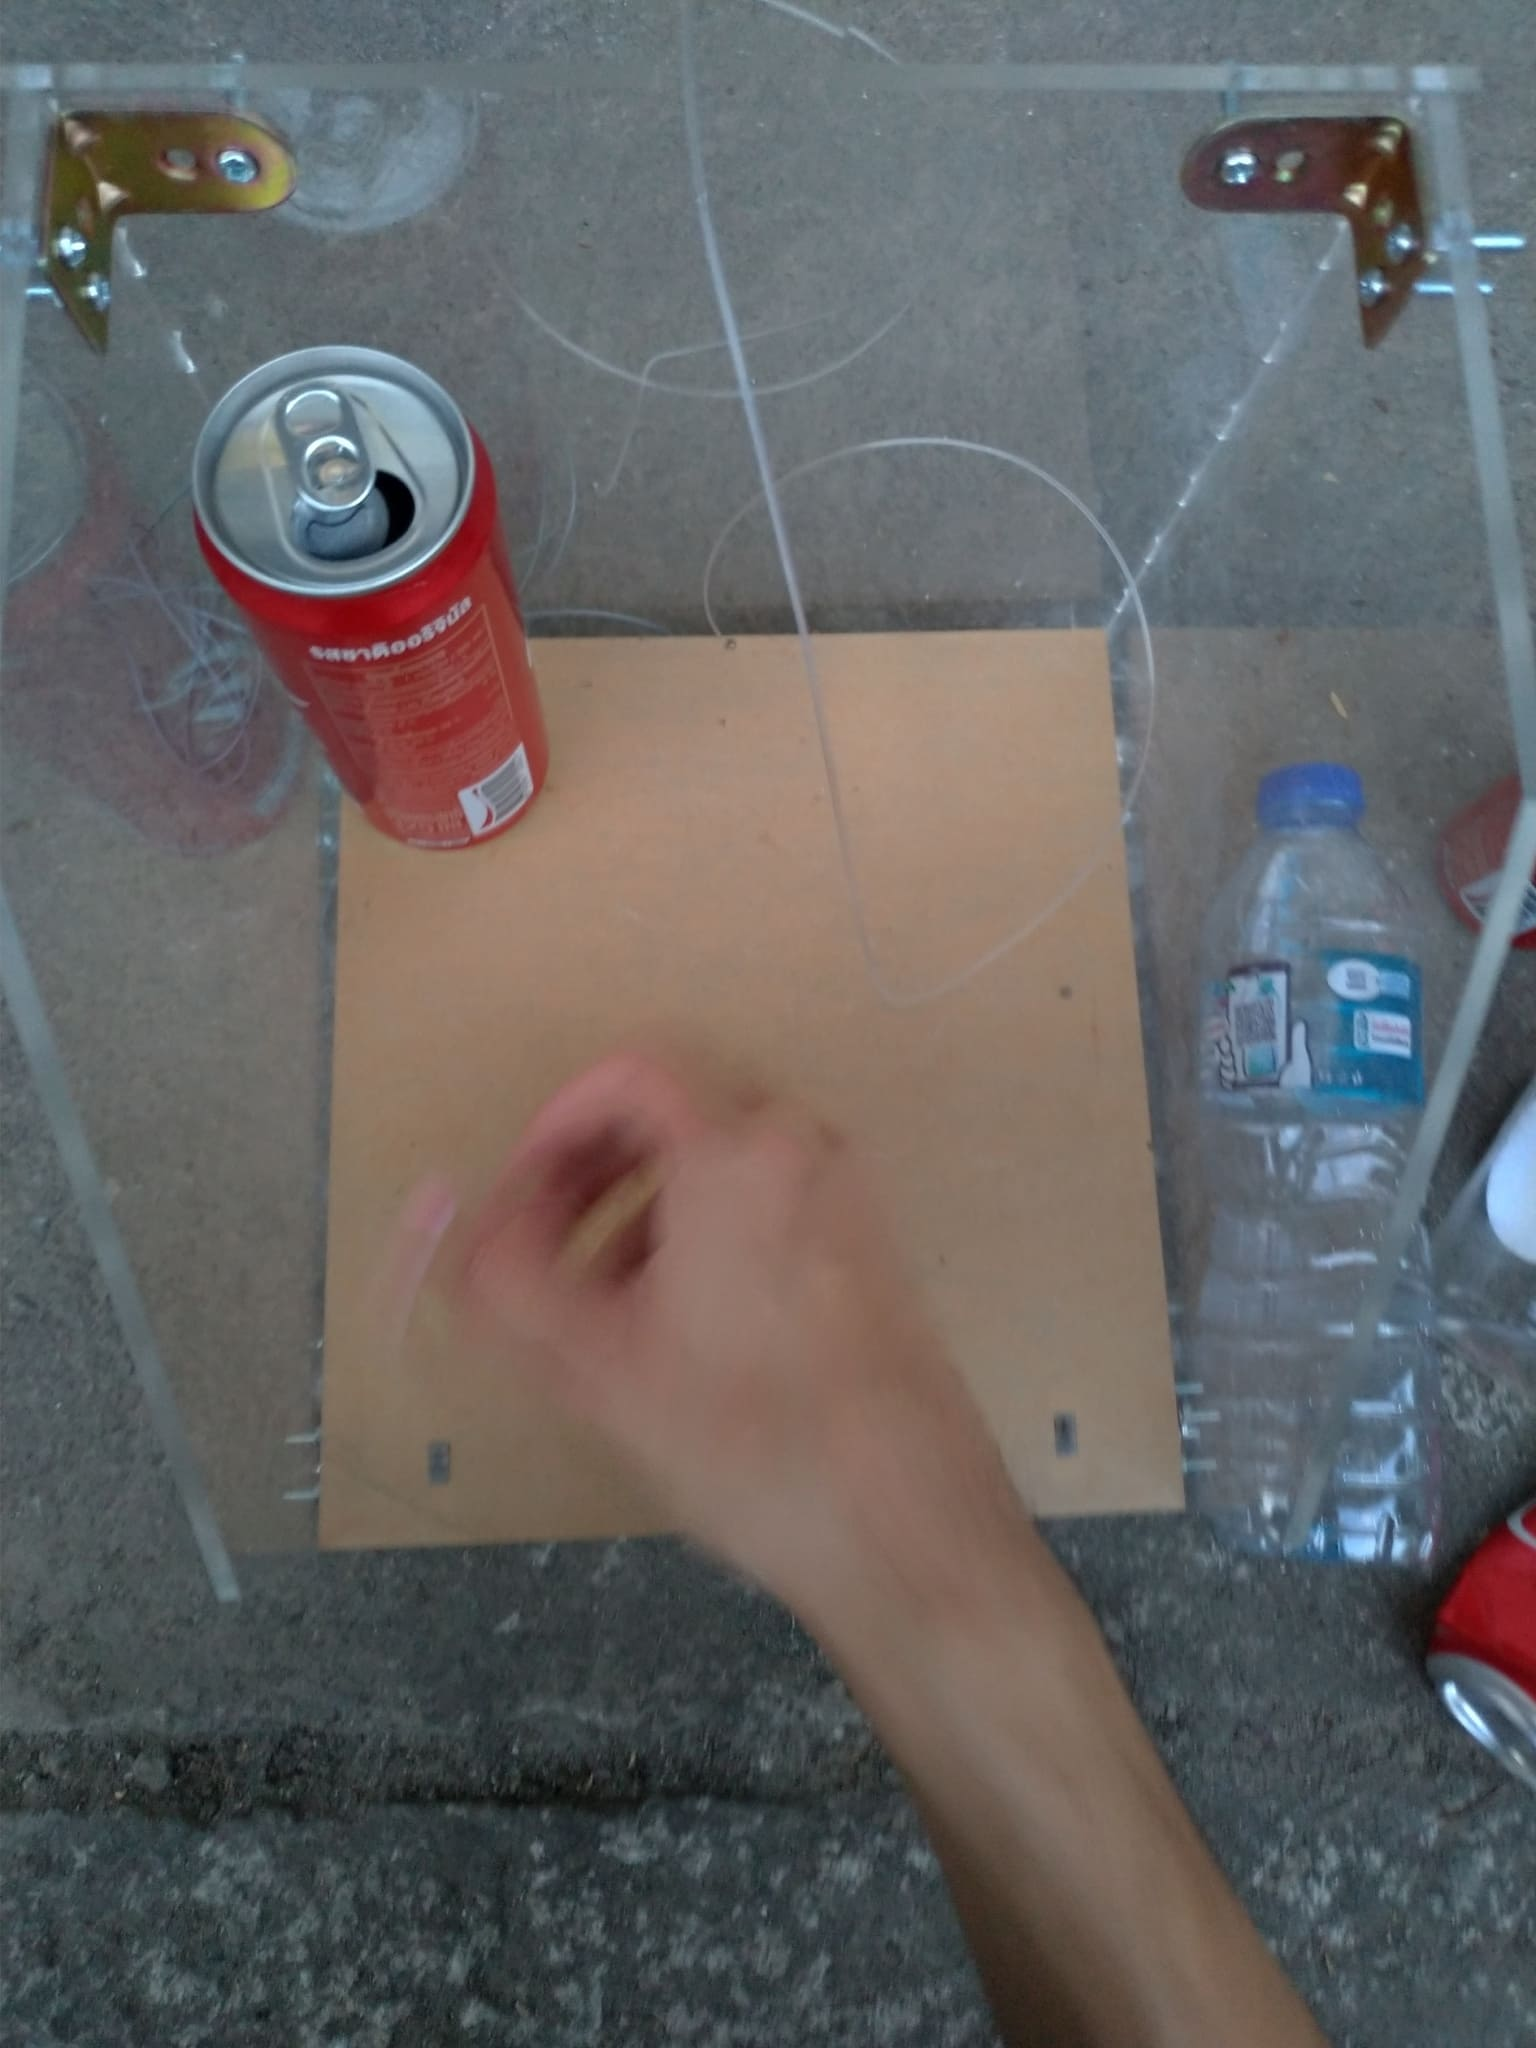AlCan: (190, 345, 547, 848)
PlasticBottle: (1175, 764, 1450, 1567)
